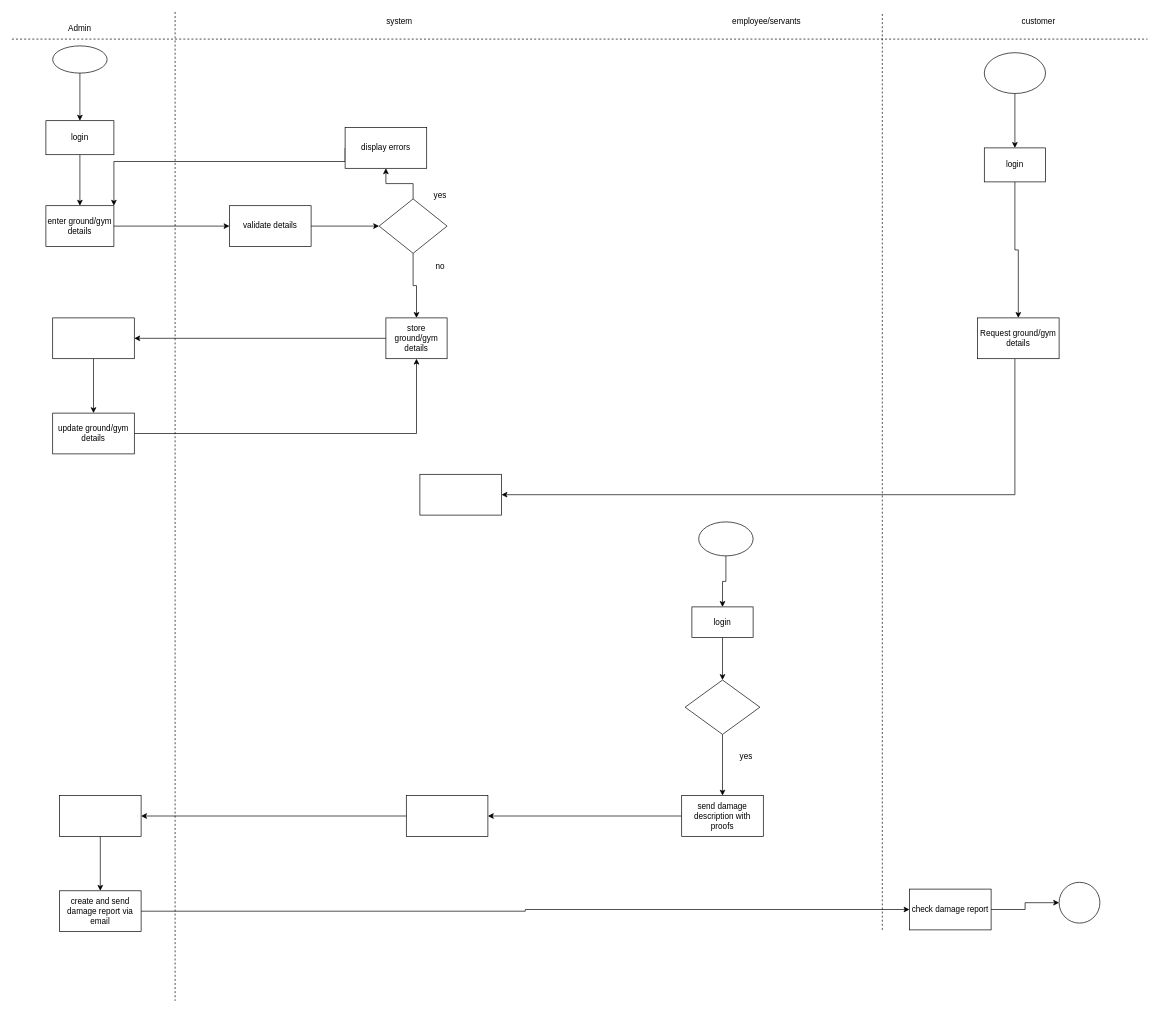
This 1160x1014 diagram has some shape labels left out. The centre of each missing label's shape, as x and y in pixels:
"check damage details" belongs at (100,815).
"display ground/gym details" belongs at (460,494).
"error exists" belongs at (412,225).
"if any damage?" belongs at (722,706).
"retrieve ground/gym details" belongs at (93,338).
"store damage details" belongs at (447,815).
